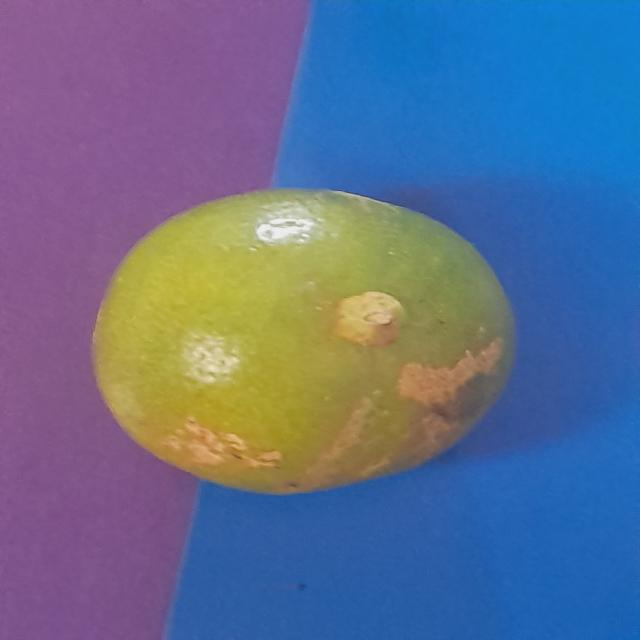thrips: (94, 189, 518, 507)
